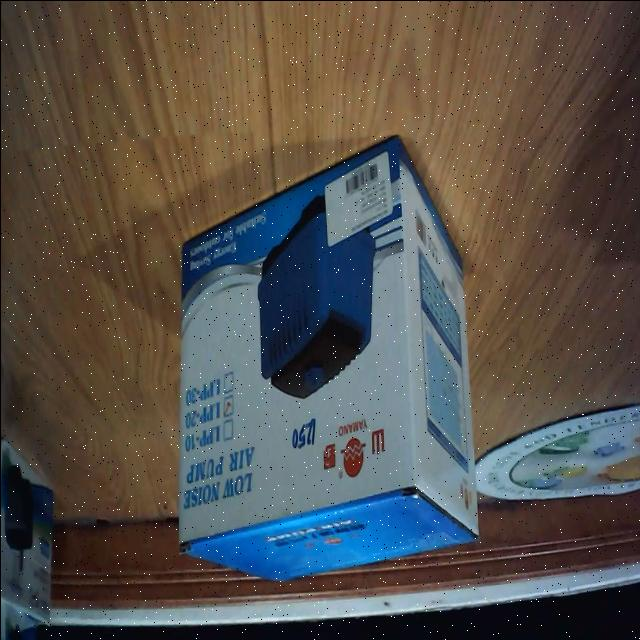YAMANO_LPP_20: (167, 128, 482, 596)
